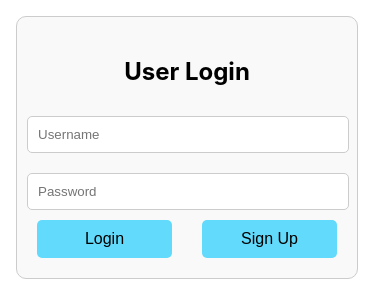
Test: Login Component › successful login sets auth token and displays welcome message
The image size is (375, 296).
Type "testuser" into the field with placeholder "Username" at (188, 134), box [27,116,349,153]
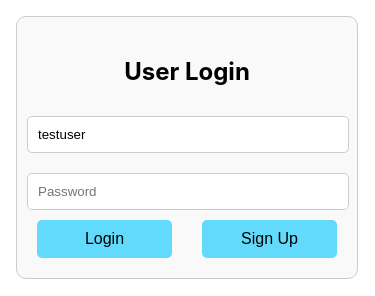
Type "password123" into the password field with placeholder "Password" at (188, 191), box [27,173,349,210]
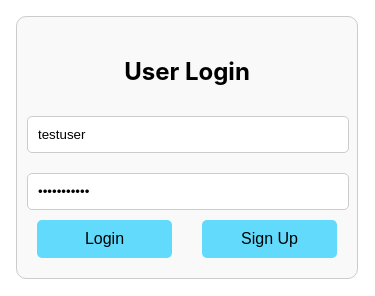
Click the button "Login" at (104, 239), box [37,220,172,258]
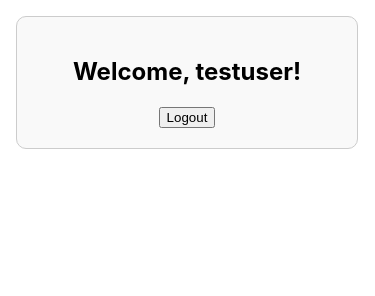
Expected: the heading "Welcome, testuser!" is shown, [73,57,301,86]
Expected: the button "Logout" is shown, [159,107,215,128]
